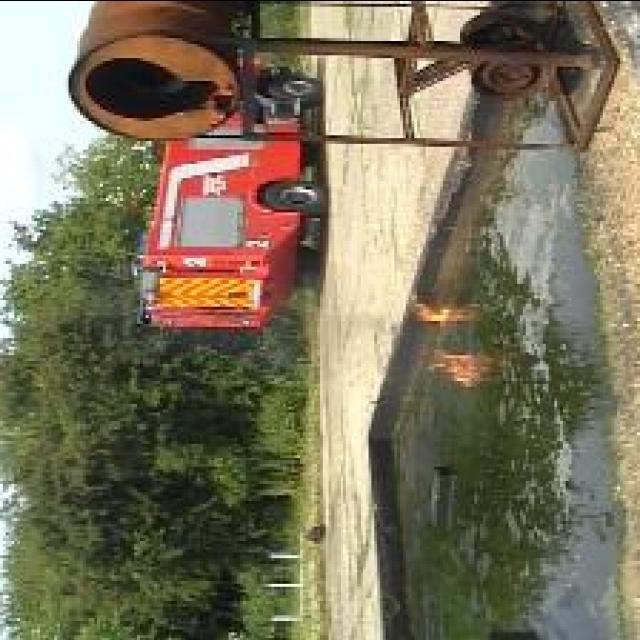Fire: (426, 348, 474, 386), (414, 303, 454, 326)
